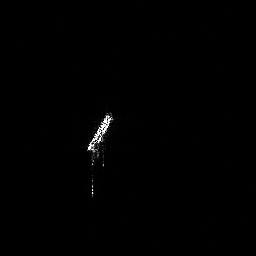ship: (82, 107, 117, 170)
